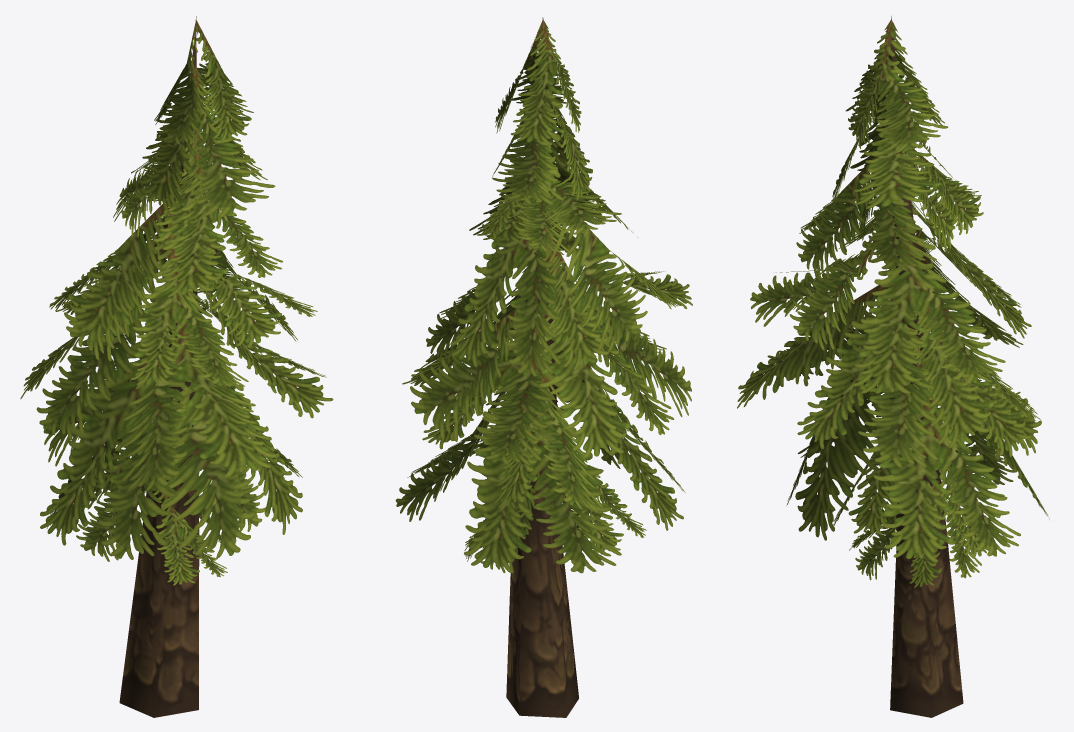
Rendered from tree_conifer_05.fbx.
The picture shows the model from 3 angles, left to right: view 1: azimuth 30°, elevation 25°; view 2: azimuth 150°, elevation 25°; view 3: azimuth 270°, elevation 25°; orthographic projection. The views are drawn at different scales.
Parts seen in each view (by area): view 1: tree_conifer_05; view 2: tree_conifer_05; view 3: tree_conifer_05.
Part boxes in pixels (<box>): tree_conifer_05: <box>20,16,333,717</box>; tree_conifer_05: <box>395,17,692,717</box>; tree_conifer_05: <box>737,16,1049,717</box>.
Size of the model in its own units: 224 by 532 by 230.
